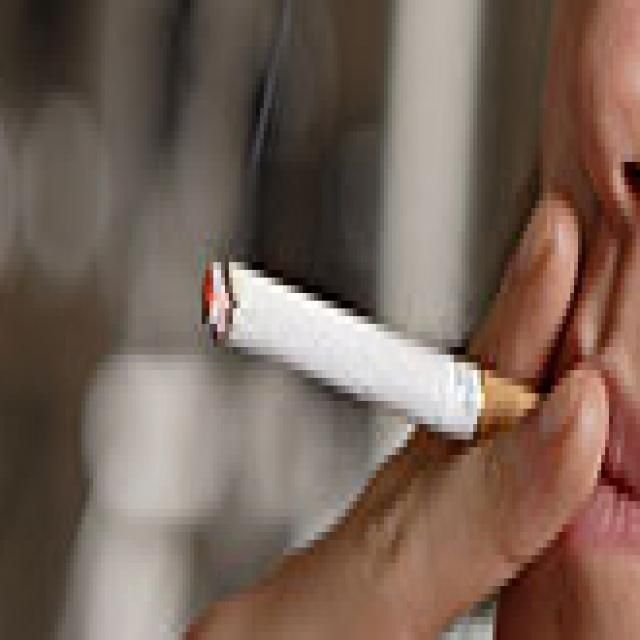smoking: (200, 255, 551, 445)
